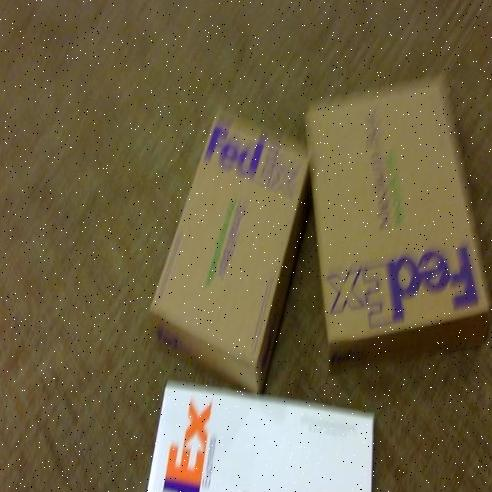Amazon: (289, 98, 478, 343), (181, 113, 305, 385), (143, 377, 388, 492)
